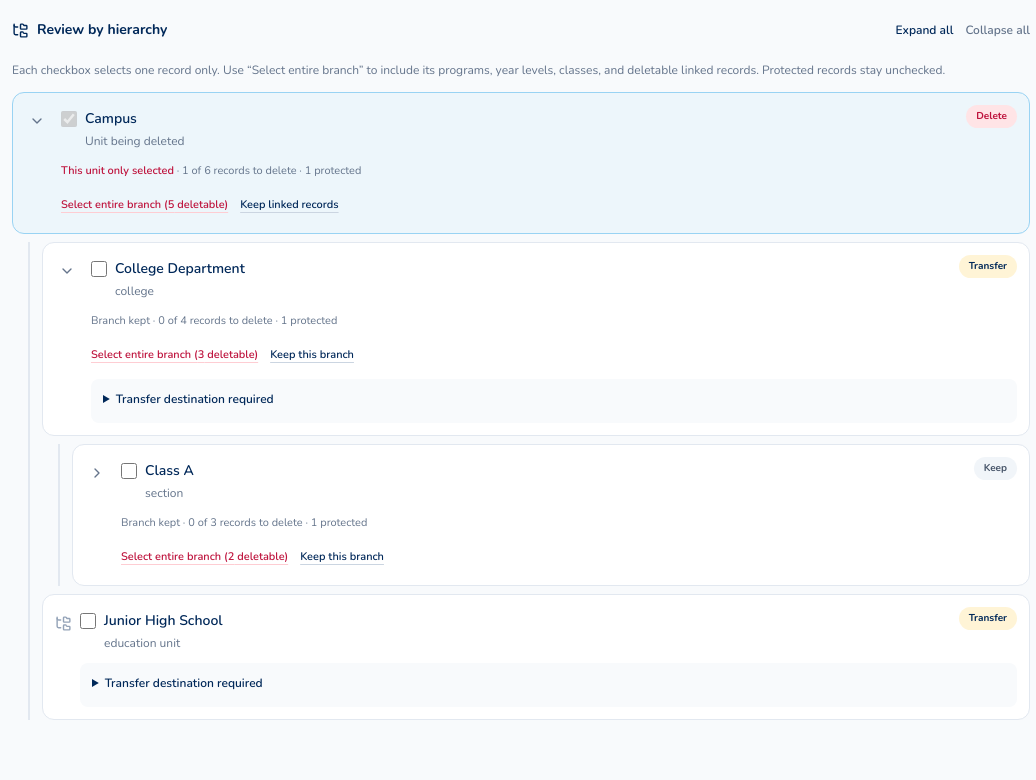
Scenario: distinguishes one unit from its entire branch and excludes protected history and sibling schools
Click the checkbox named "Delete College Department only": (99, 269) [91,261,107,277]
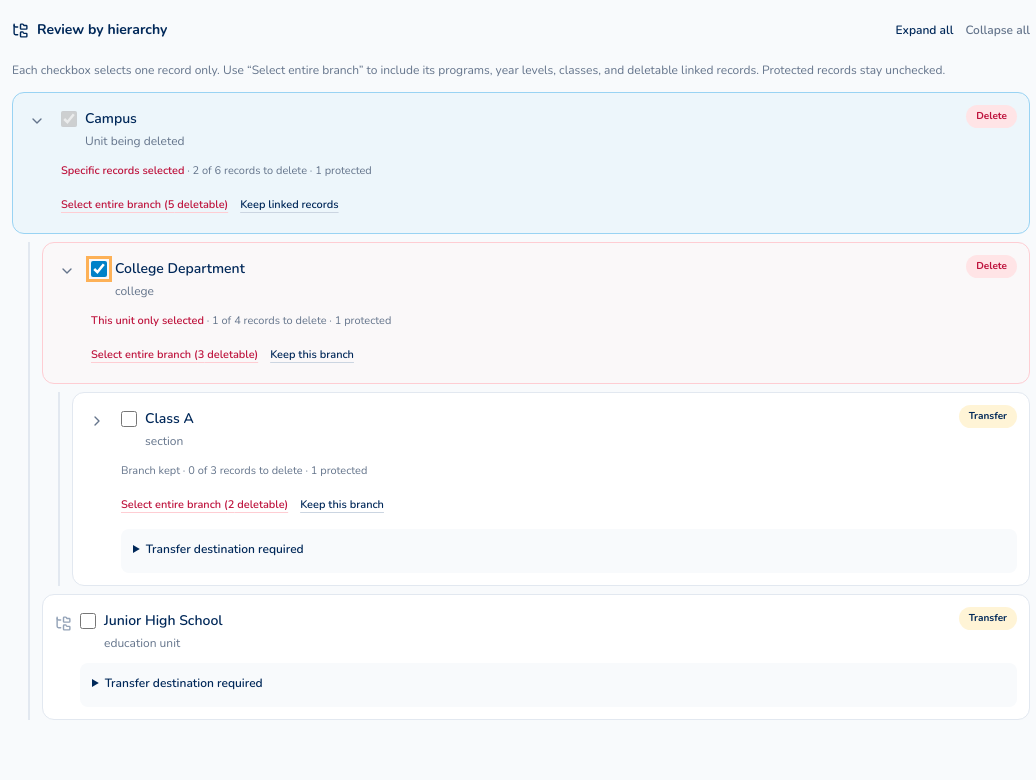
Expected: the checkbox named "Delete Class A only" is not checked, [121,411,137,427]
Now the text "This unit only selected" is shown, box [91,313,204,328]
Click the button "Select entire branch (3 deletable)": (175, 355) [91,339,258,371]
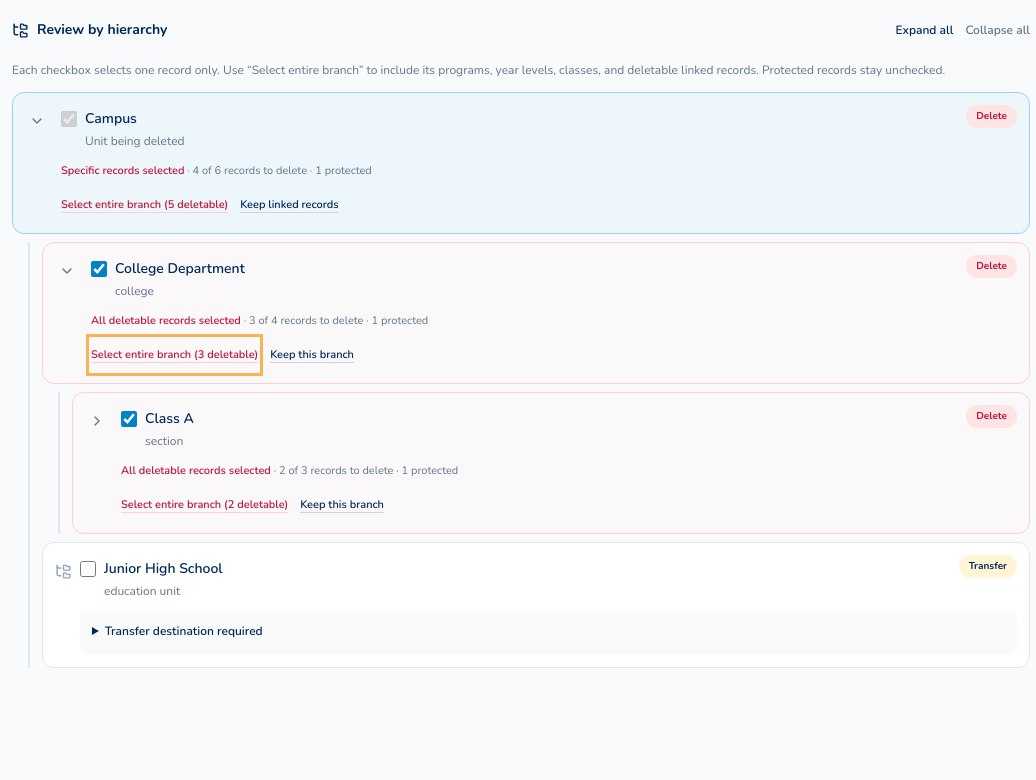
Click the button named "Expand Class A": (97, 421) [81,405,113,437]
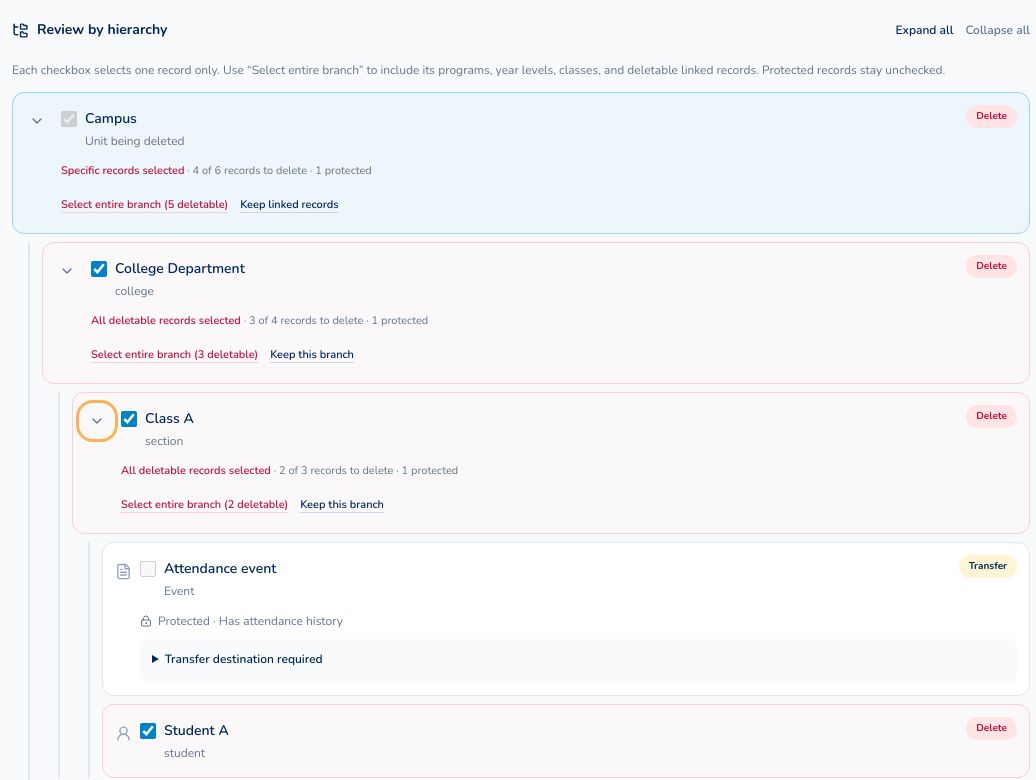
Now the checkbox named "Delete Class A only" is checked, box [121,411,137,427]
Now the checkbox named "Delete Student A" is checked, box [140,723,156,739]
Now the checkbox named "Delete Attendance event" is not checked, box [140,561,156,577]
Click the button "Keep this branch" below "College Department": (312, 355) [270,339,354,371]
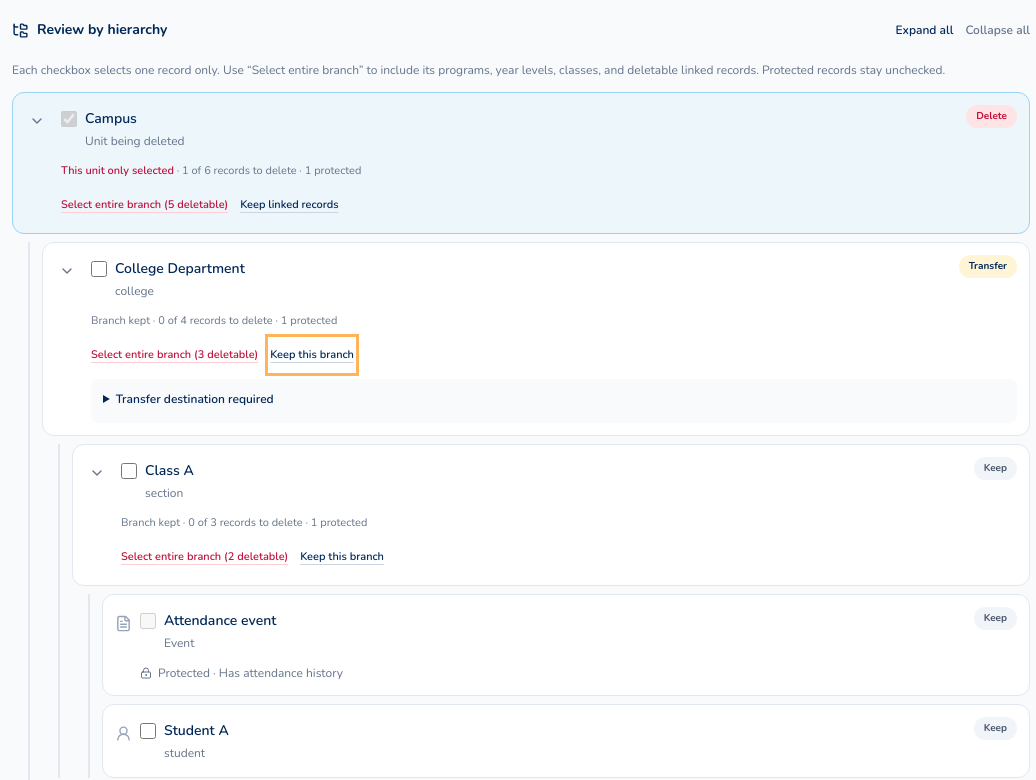
Expected: the checkbox named "Delete Campus only" is checked, [61,111,77,127]
Now the checkbox named "Delete Student A" is not checked, box [140,723,156,739]
